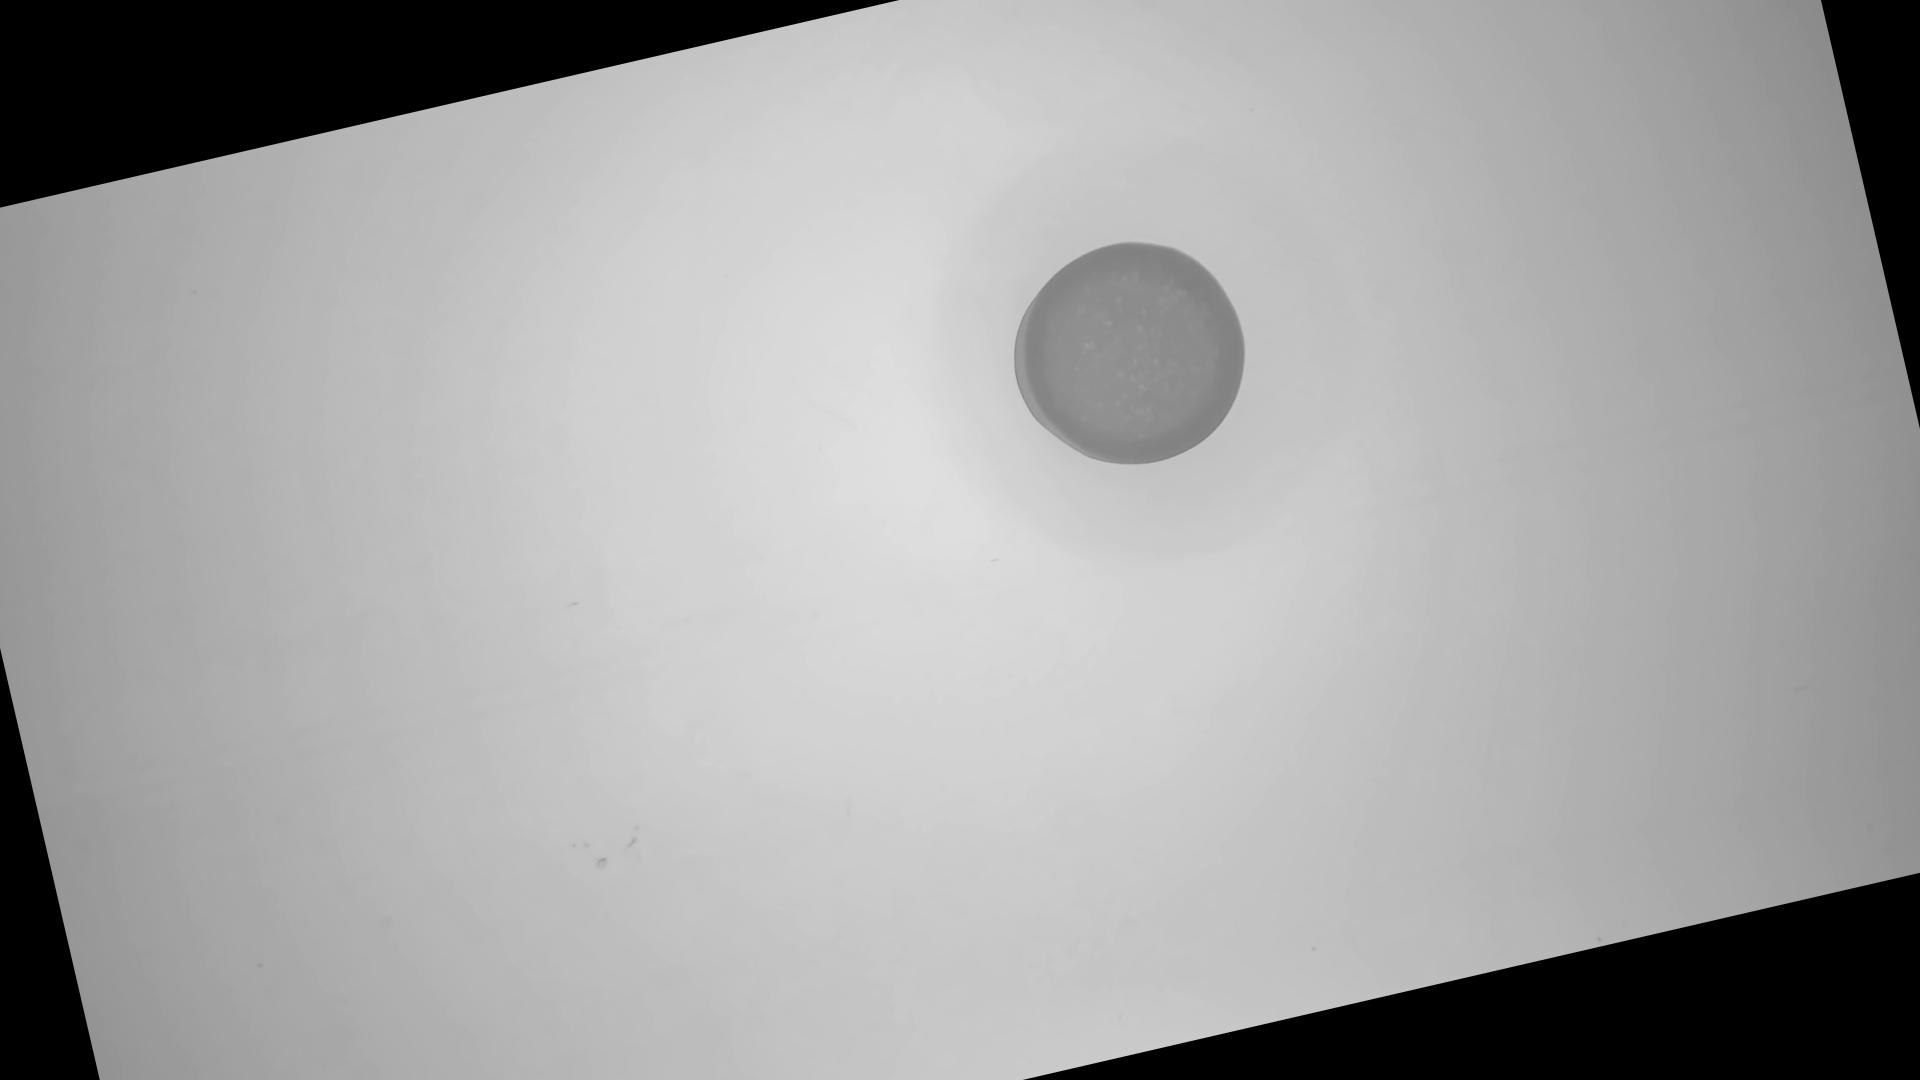normal: (989, 216, 1271, 492)
